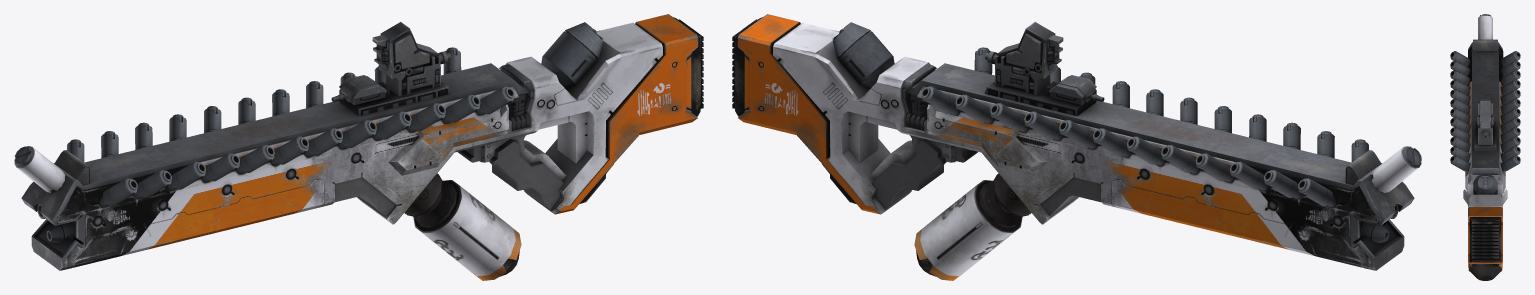
The model's file is Weapon2.fbx.
The picture shows the model from 3 angles, left to right: view 1: azimuth 30°, elevation 25°; view 2: azimuth 150°, elevation 25°; view 3: azimuth 270°, elevation 25°; orthographic projection. The views are drawn at different scales.
Parts seen in each view (by area): view 1: chess island; view 2: chess island; view 3: chess island.
Boxes of the visible parts, x1,y1,x2,y2 form: chess island: [14, 14, 703, 280]; chess island: [732, 14, 1421, 280]; chess island: [1450, 14, 1520, 280].
Bounding box in the file's own units: 9778 × 3751 × 1558.
